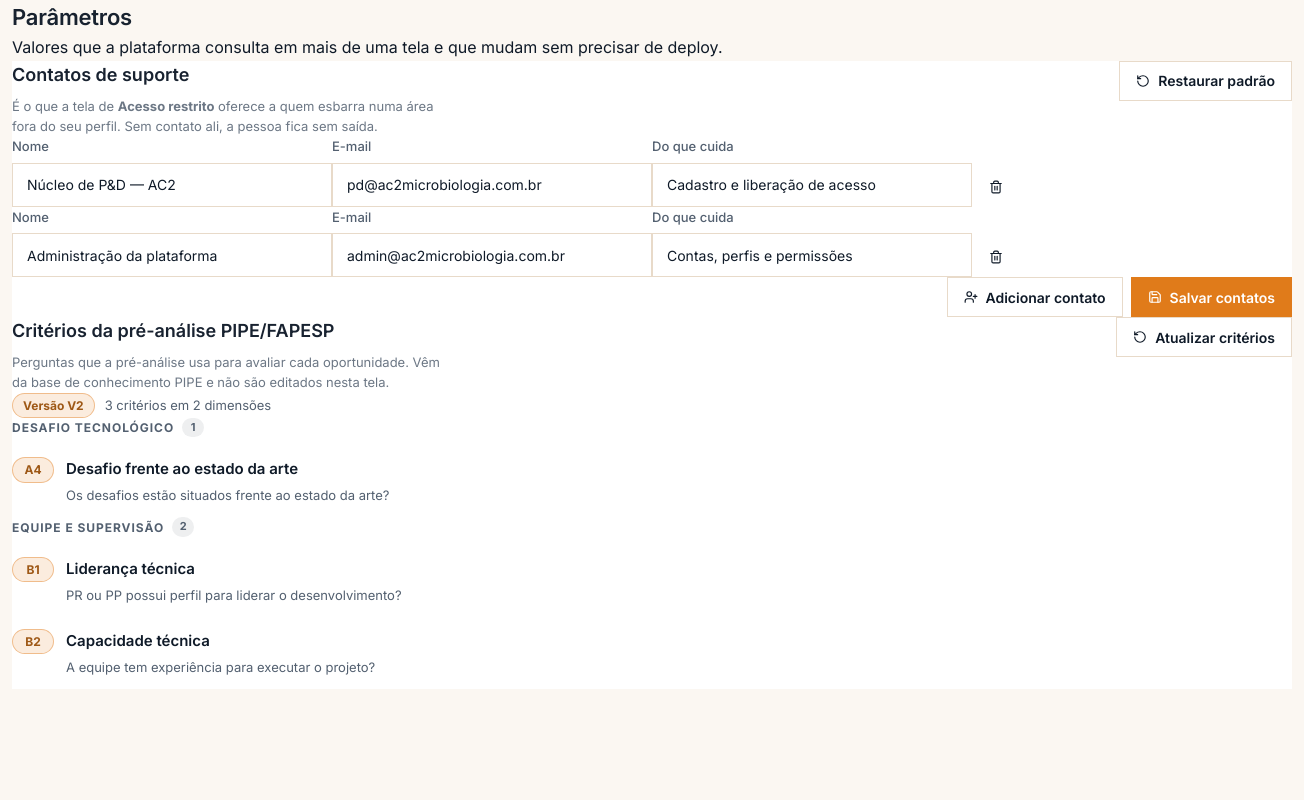
it: ParametrosSection › não deixa salvar uma lista vazia — é a saída de quem foi barrado
Check: the 1st field showing "pd@ac2microbiologia.com.br" is shown, box [332,163,652,207]
Click the button named "remover contato núcleo". click: (996, 187)
box: [972,167,1020,207]
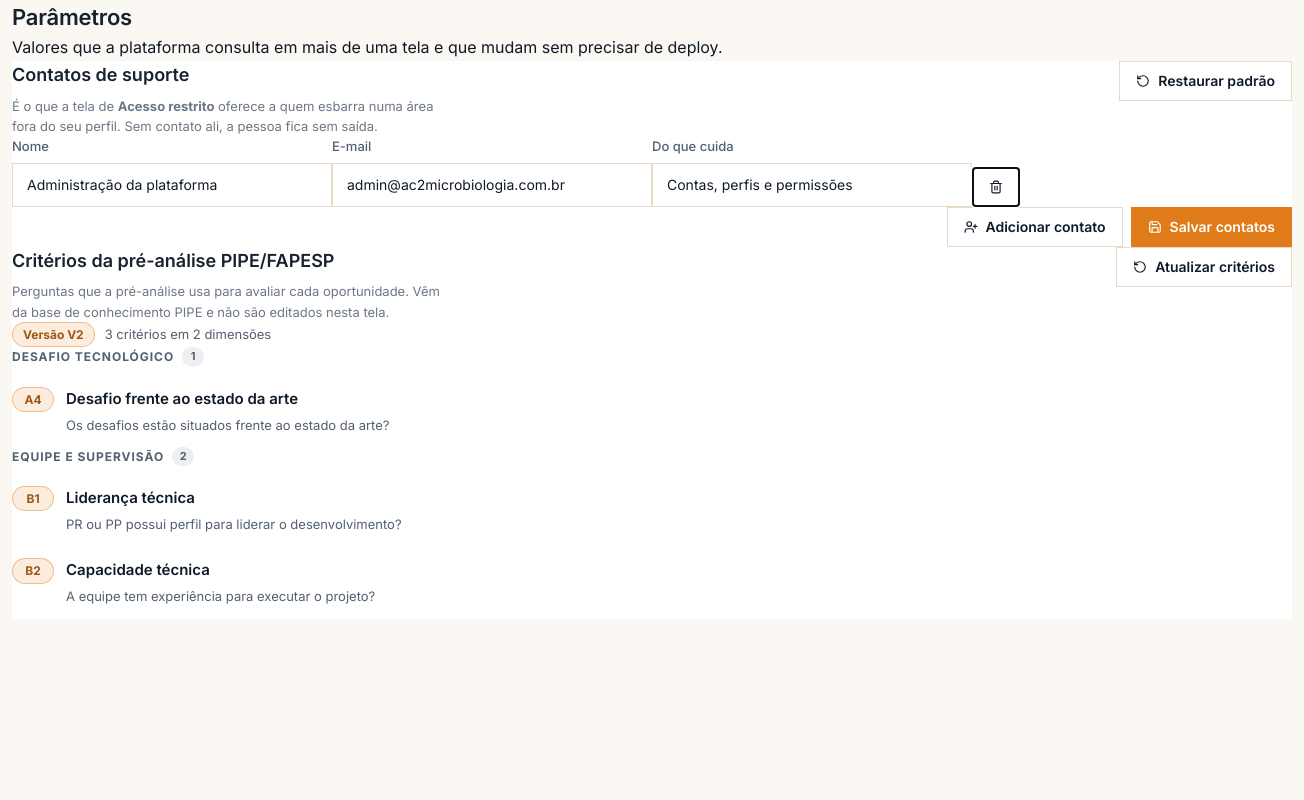
Click the button named "remover contato administração". click: (996, 187)
box: [972,167,1020,207]
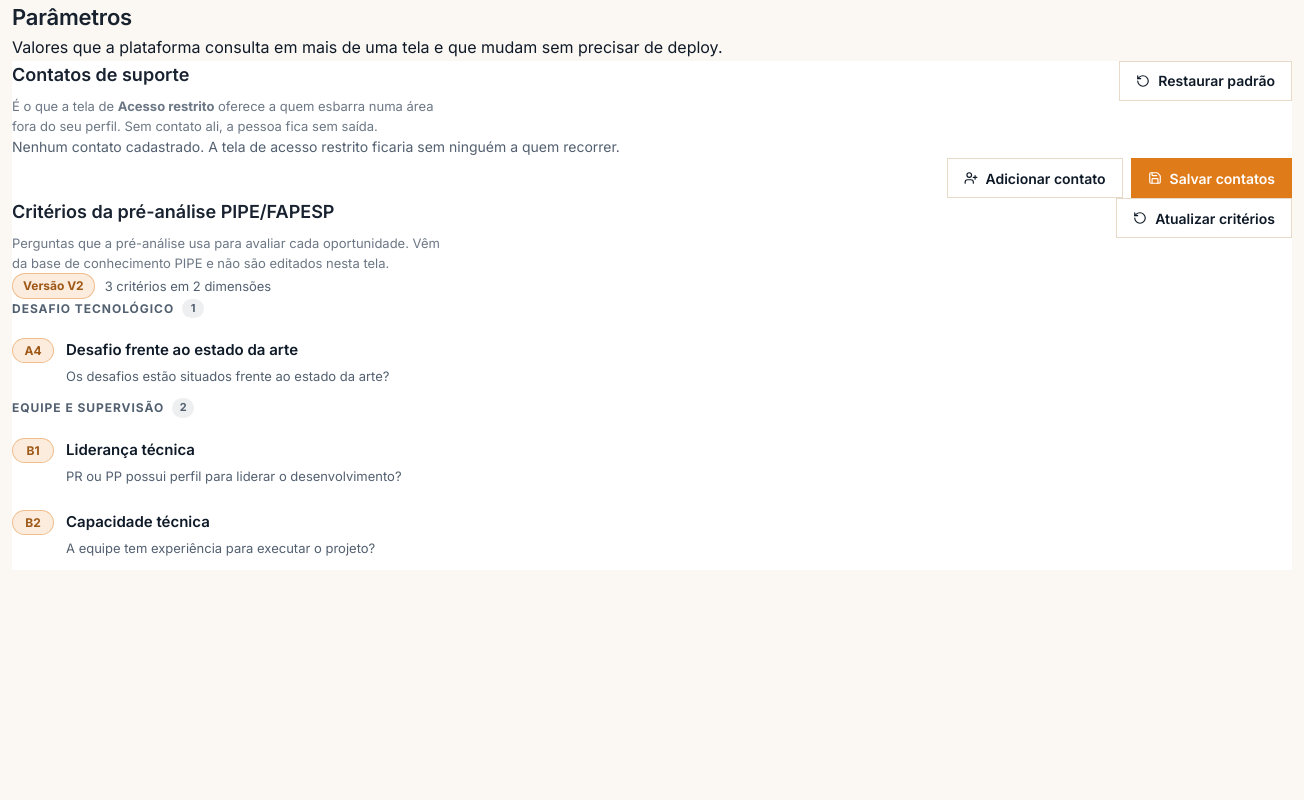
Click the button "Salvar contatos". click: (1211, 178)
box: [1130,158,1292,198]
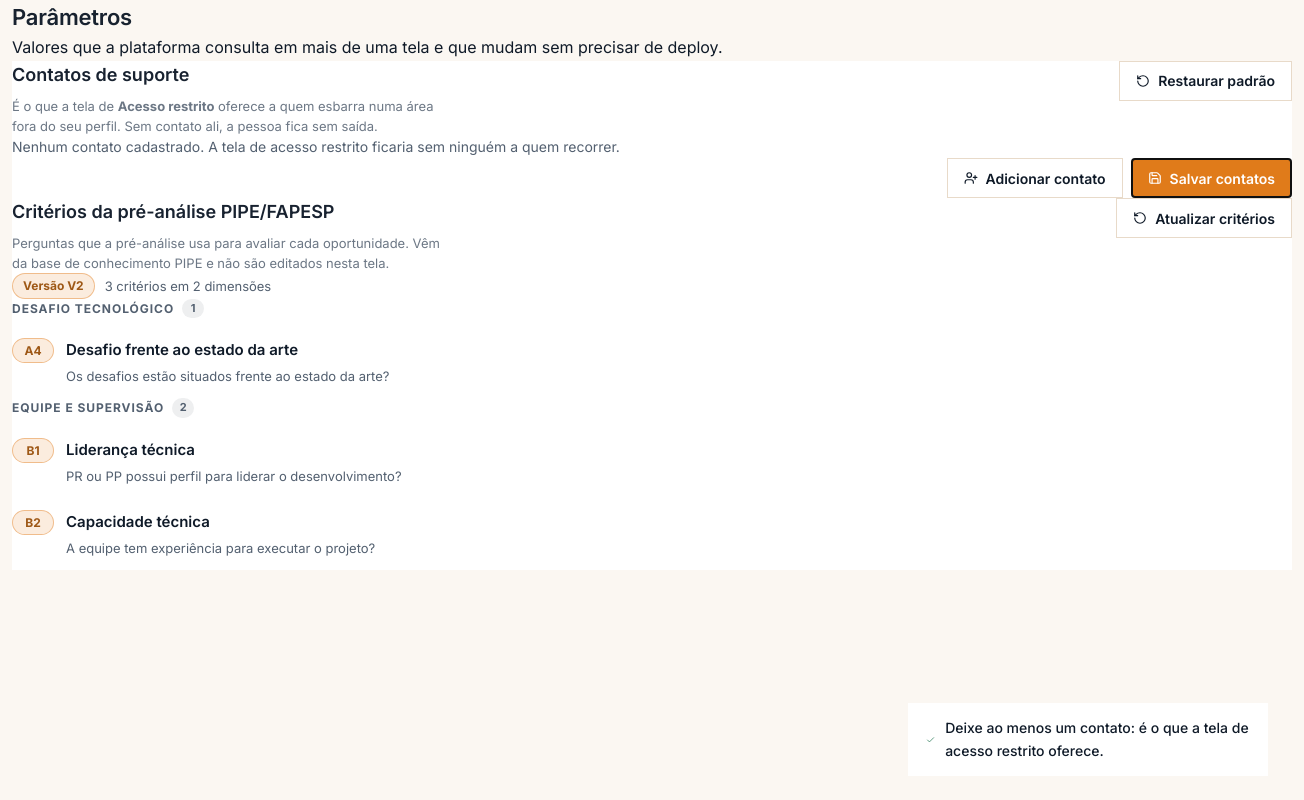
Check: the text "Deixe ao menos um contato: é o que a tela de acesso restrito oferece." is shown, box [908,703,1268,776]
